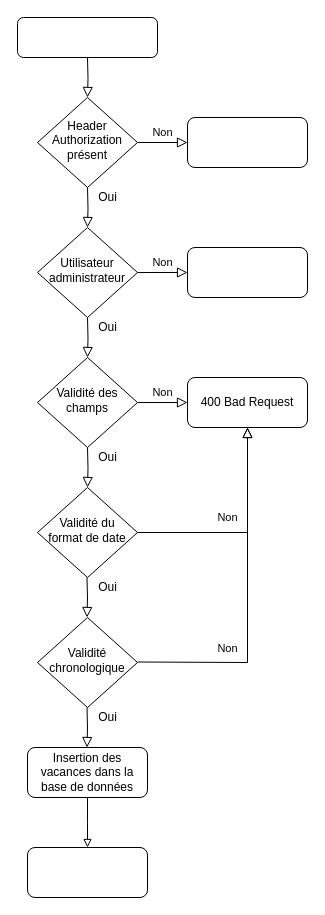
Image size: 325x915. Some labels were removed from this diagram. Each missing label, with the box of its shape:
201 Created: (26, 846, 148, 898)
401 Unauthorized: (186, 116, 308, 168)
403 Forbidden: (186, 246, 308, 298)
POST api/v1/absences: (16, 16, 158, 58)
